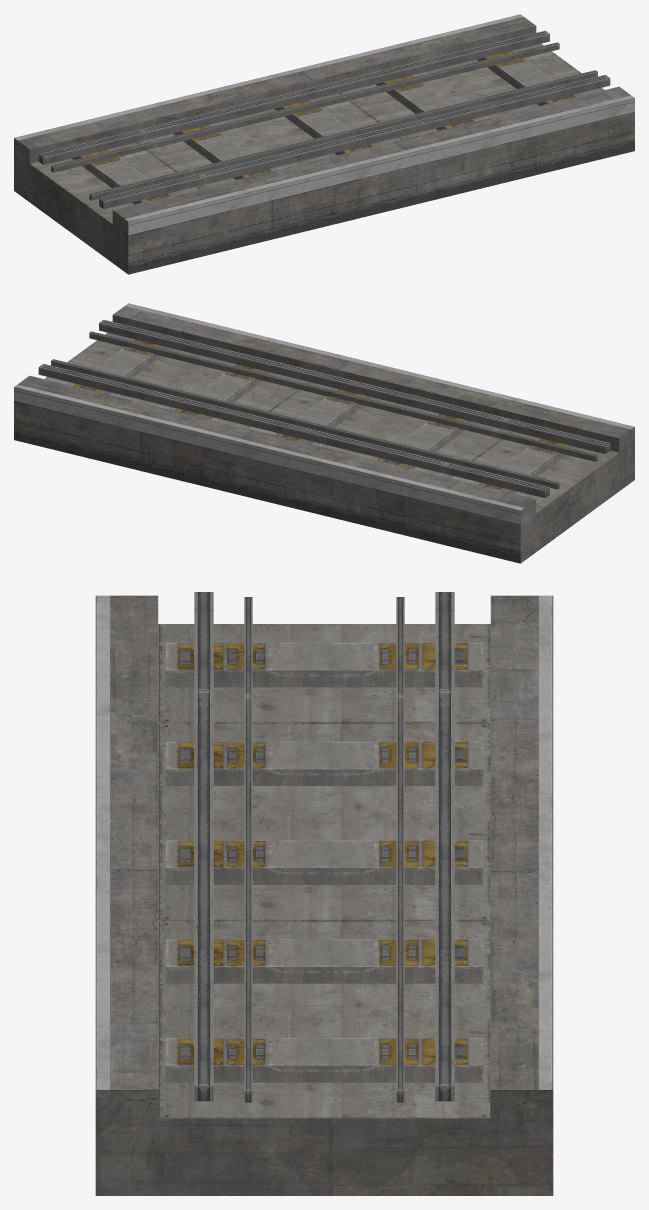
File: CP_Metro_Track_10m.fbx
The picture shows the model from 3 angles, top to bottom: view 1: azimuth 30°, elevation 25°; view 2: azimuth 150°, elevation 25°; view 3: azimuth 270°, elevation 25°; orthographic projection. The views are drawn at different scales.
Parts seen in each view (by area): view 1: CP_Metro_Track_10m_LOD0; view 2: CP_Metro_Track_10m_LOD0; view 3: CP_Metro_Track_10m_LOD0.
Part boxes in pixels (x1,y1,x2,y2): CP_Metro_Track_10m_LOD0: (14,14,634,274); CP_Metro_Track_10m_LOD0: (14,303,634,563); CP_Metro_Track_10m_LOD0: (95,592,553,1195).
Size of what is drawn, in the model's own units: 1000 by 103 by 391.
